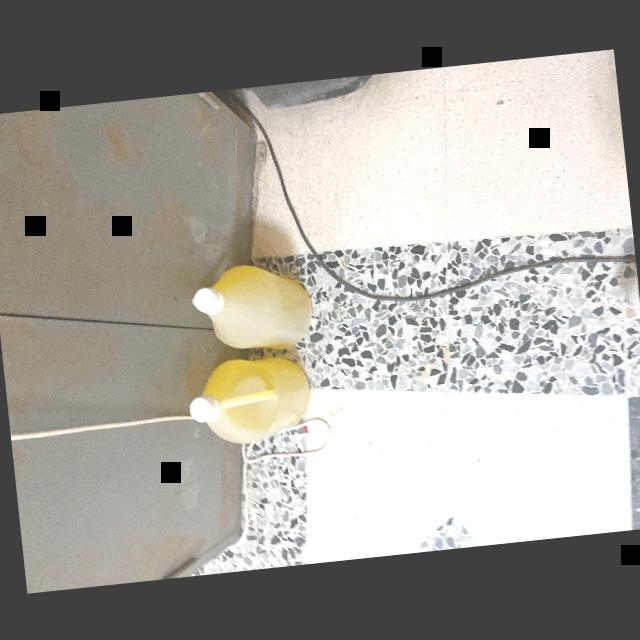chemical_plastic_gallon: (175, 250, 321, 360), (180, 346, 320, 456)
